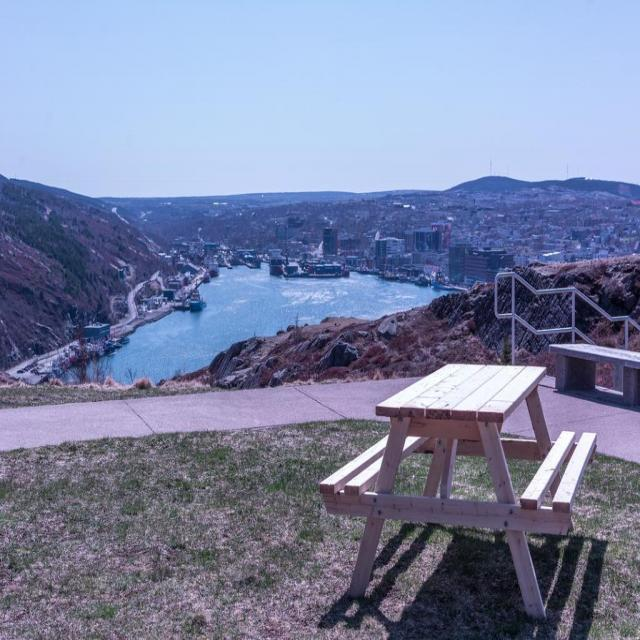table: (348, 360, 543, 627)
